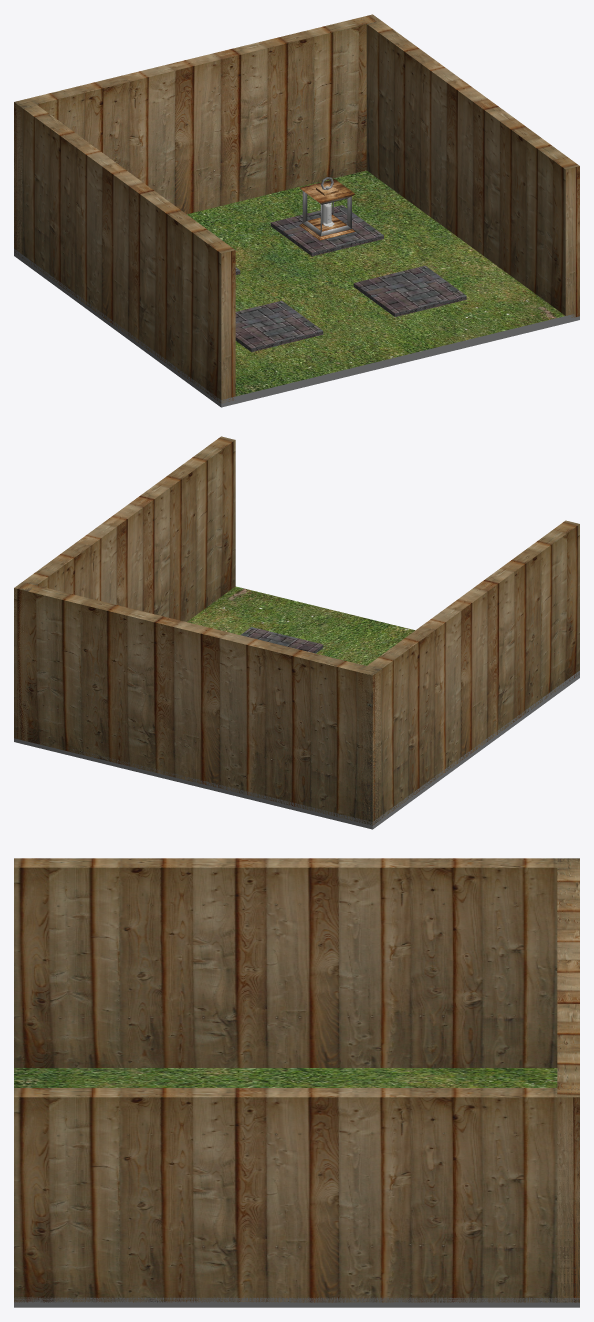
3 renders of one model, top to bottom at view 1: azimuth 30°, elevation 25°; view 2: azimuth 150°, elevation 25°; view 3: azimuth 270°, elevation 25°, orthographic. The views are drawn at different scales.
Parts seen in each view (by area): view 1: Gerade_Holz_SackGasse_Licht; view 2: Gerade_Holz_SackGasse_Licht; view 3: Gerade_Holz_SackGasse_Licht.
Part boxes in pixels (bbox=[...]): Gerade_Holz_SackGasse_Licht: bbox=[14, 14, 579, 407]; Gerade_Holz_SackGasse_Licht: bbox=[14, 436, 579, 829]; Gerade_Holz_SackGasse_Licht: bbox=[14, 858, 579, 1307].
Bounding box in the file's own units: 5 × 2.05 × 5.
29 materials, 25 textured.
